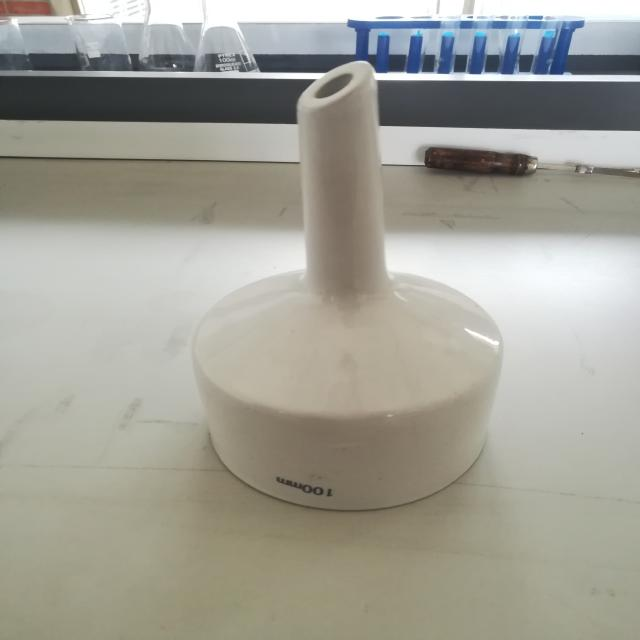Buchner_Funnel: (155, 38, 549, 582)
